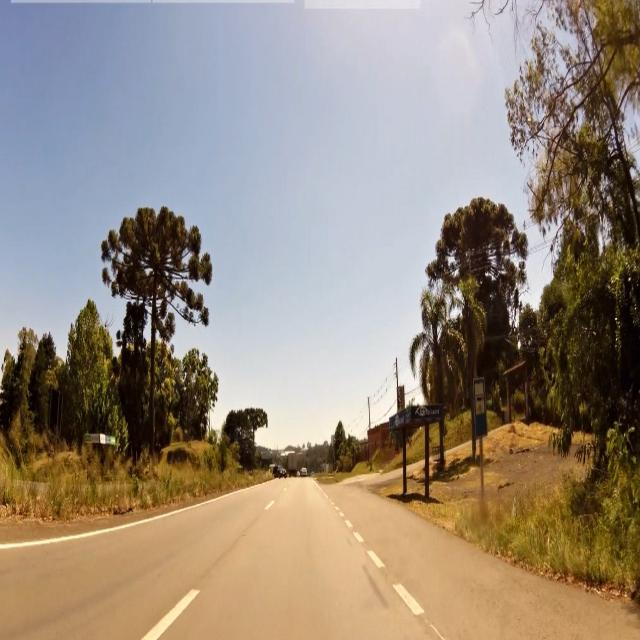S-14: (474, 377, 487, 437)
